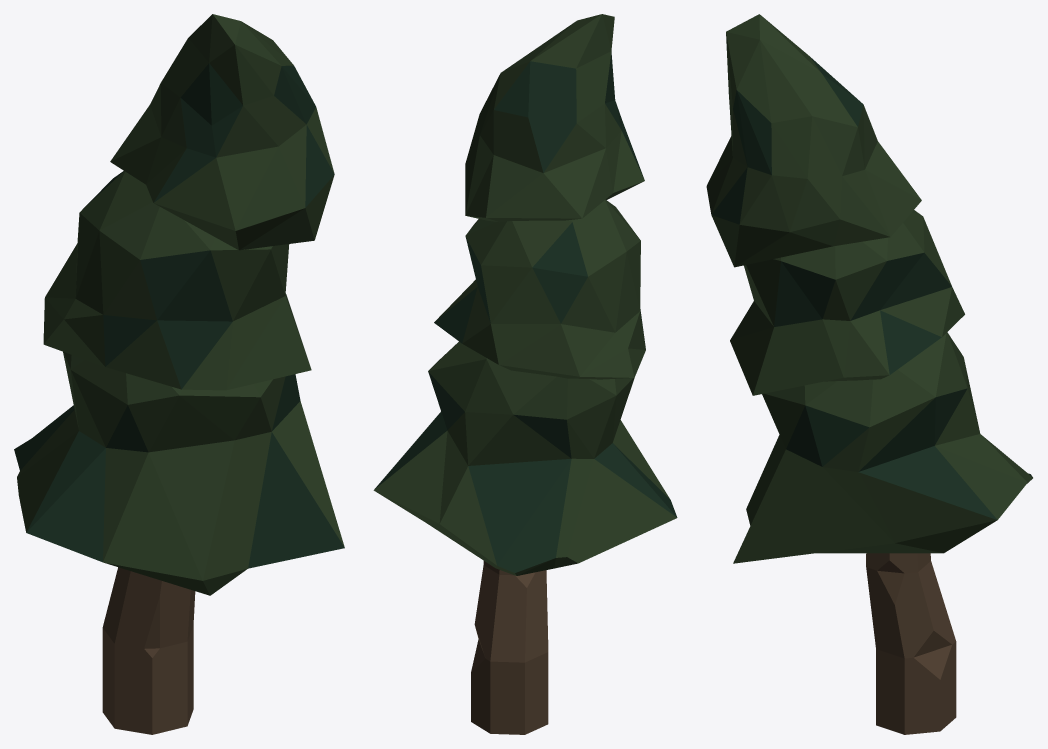
The model's file is tree_pine4.fbx.
3 renders of one model, left to right at view 1: azimuth 30°, elevation 25°; view 2: azimuth 150°, elevation 25°; view 3: azimuth 270°, elevation 25°, orthographic. The views are drawn at different scales.
Visible parts, largest first — view 1: Icosphere, Cylinder; view 2: Icosphere, Cylinder; view 3: Icosphere, Cylinder.
Part boxes in pixels (left/top/right/bottom): Icosphere: left=14, top=14, right=344, bottom=595; Cylinder: left=102, top=567, right=195, bottom=734; Icosphere: left=373, top=14, right=677, bottom=575; Cylinder: left=471, top=561, right=548, bottom=734; Icosphere: left=706, top=14, right=1032, bottom=563; Cylinder: left=866, top=553, right=956, bottom=734.
Bounding box in the file's own units: 675 × 1815 × 775.
